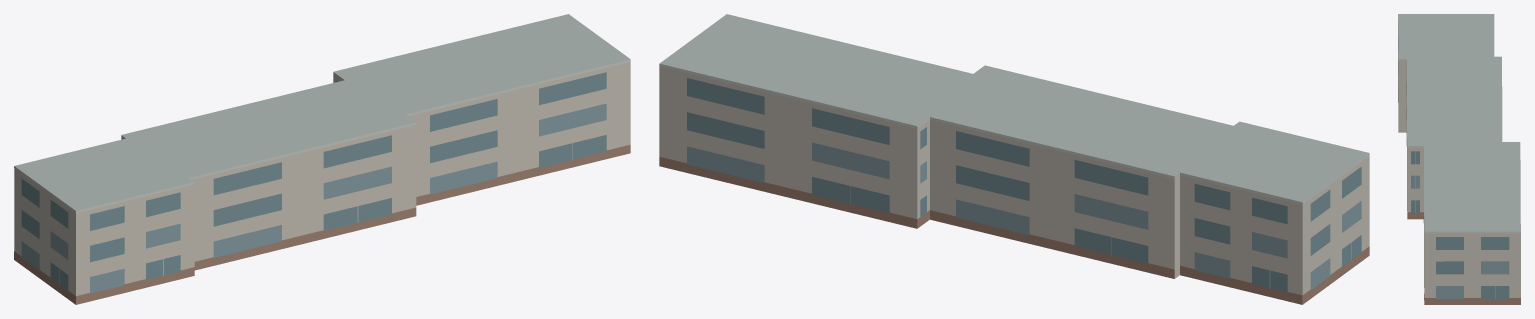
The model's file is survey-upis-32817392.glb.
The picture shows the model from 3 angles, left to right: view 1: azimuth 30°, elevation 25°; view 2: azimuth 150°, elevation 25°; view 3: azimuth 270°, elevation 25°; orthographic projection. The views are drawn at different scales.
Visible parts, largest first — view 1: survey-upis-32817392.tmp; view 2: survey-upis-32817392.tmp; view 3: survey-upis-32817392.tmp.
Part boxes in pixels (bbox=[...]): survey-upis-32817392.tmp: bbox=[14, 14, 630, 304]; survey-upis-32817392.tmp: bbox=[659, 14, 1369, 304]; survey-upis-32817392.tmp: bbox=[1398, 14, 1520, 304].
Size of the model in its own units: 58.28 by 9.15 by 13.9.
